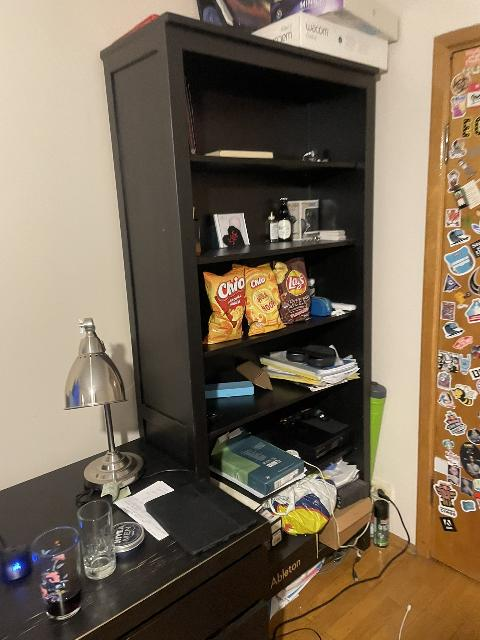Chio Cascaval 125g: (202, 266, 244, 344)
Chio Hula Hoops Cheese 70g: (242, 261, 286, 334)
Lays Beef Grilled Ribs 125g: (272, 257, 312, 325)
